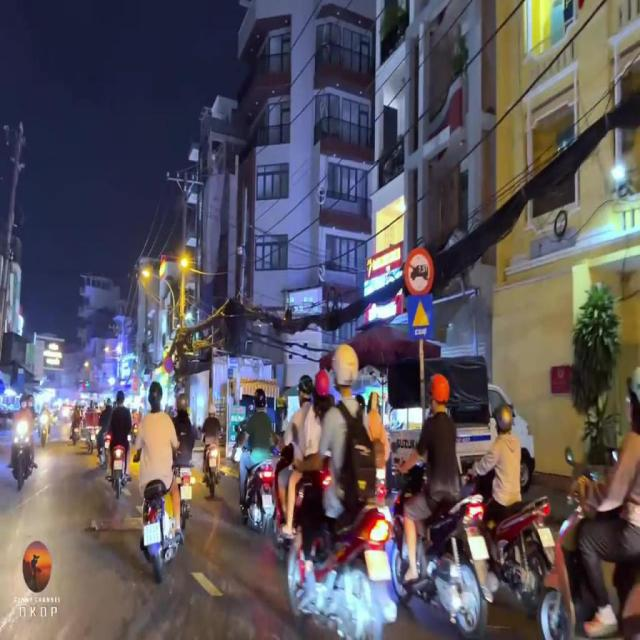cam_dung_xe_va_do_xe: (164, 354, 174, 374)
cam_o_to_tai_trong_luong_qua_2-5t: (404, 248, 434, 296)
cho: (407, 294, 434, 342)
